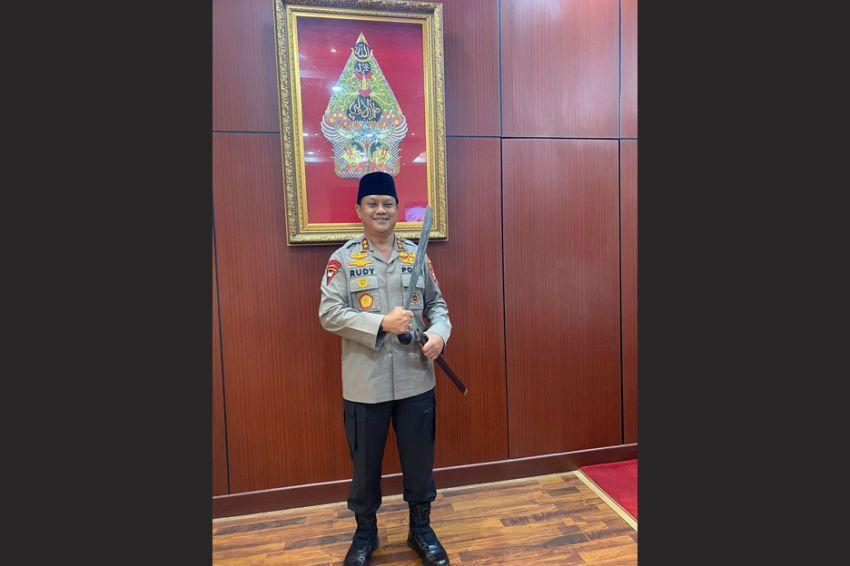facao: (393, 205, 436, 345)
